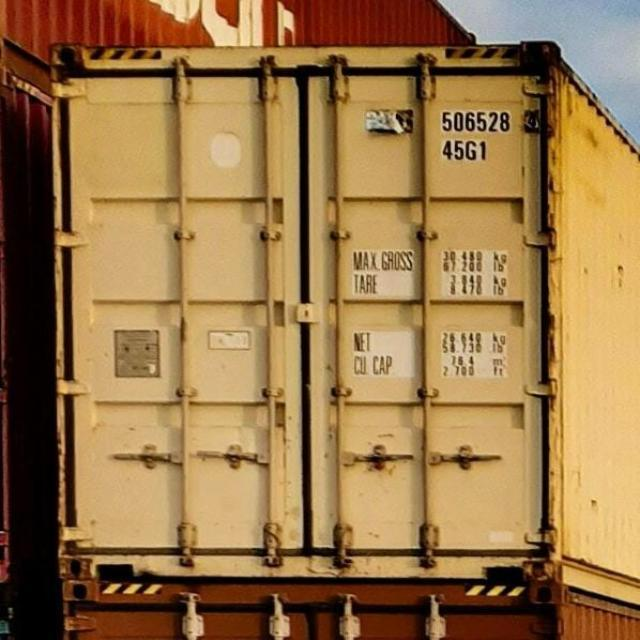ISO: (444, 138, 491, 161)
container_number: (376, 109, 522, 136)
